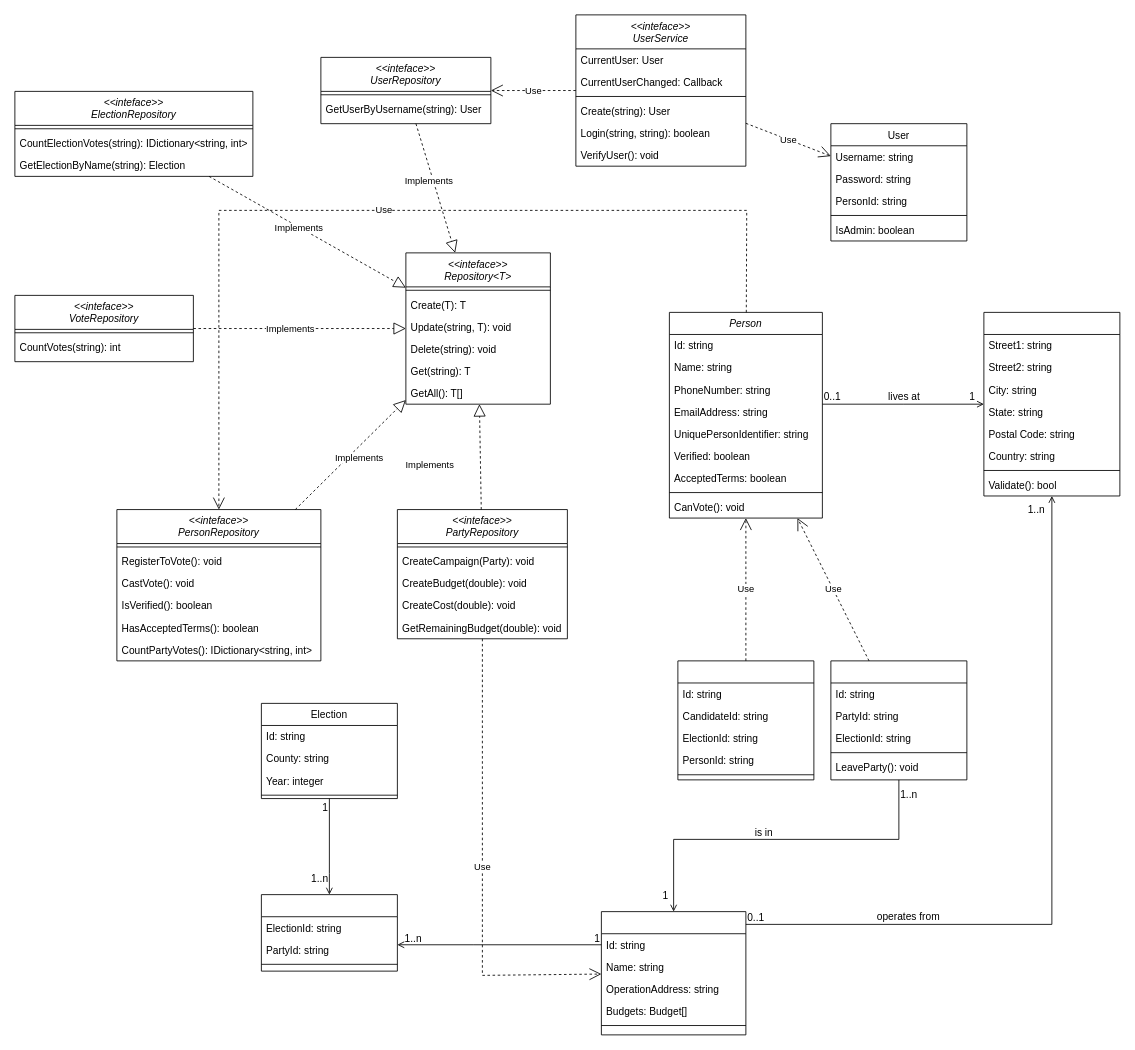
Some shapes in this 1135 by 1050 pixel diagram are drawn without their labels. The box of each missing label's shape, as (x1, y1, x2, y2) in pixels:
Address: (983, 312, 1120, 496)
Candidate: (830, 660, 967, 780)
Party: (601, 911, 746, 1035)
PartyInElection: (261, 894, 397, 971)
Vote: (677, 660, 814, 780)
